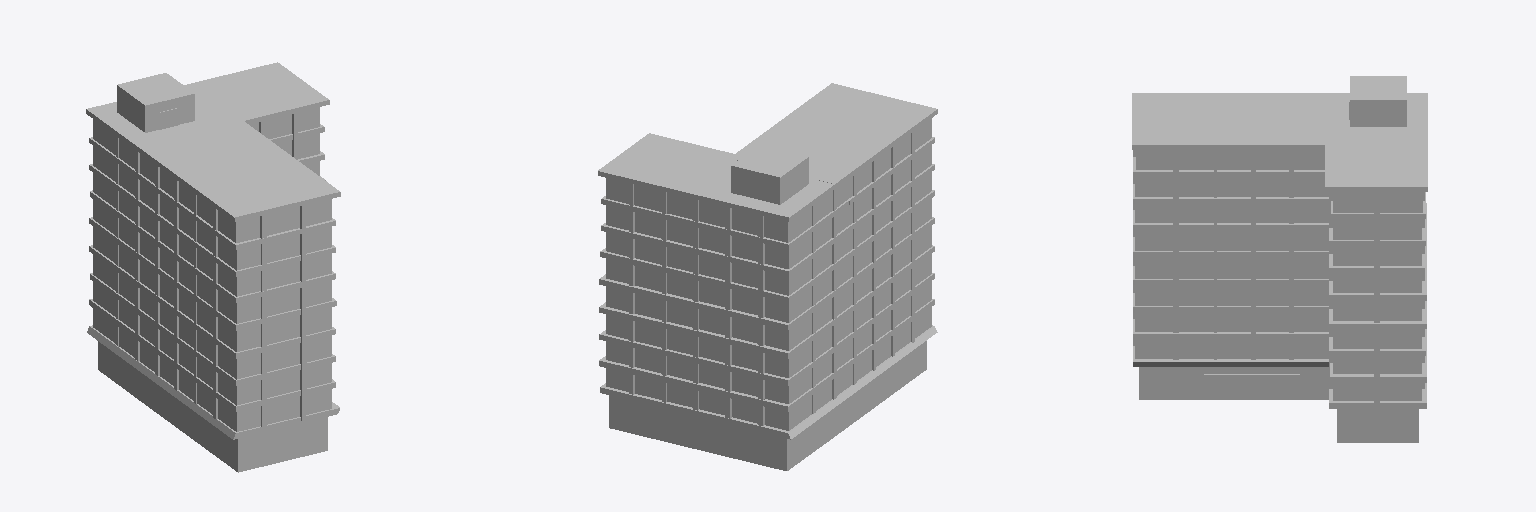
The model's file is bill2_blue.obj.
3 renders of one model, left to right at view 1: azimuth 30°, elevation 25°; view 2: azimuth 150°, elevation 25°; view 3: azimuth 270°, elevation 25°, orthographic.
Parts seen in each view (by area): view 1: Cube.001; view 2: Cube.001; view 3: Cube.001.
Boxes of the visible parts, x1=… form: Cube.001: x1=86, y1=62, x2=340, y2=472; Cube.001: x1=598, y1=83, x2=937, y2=470; Cube.001: x1=1132, y1=76, x2=1427, y2=442.
Bounding box in the file's own units: 7.75 × 11.04 × 10.36.